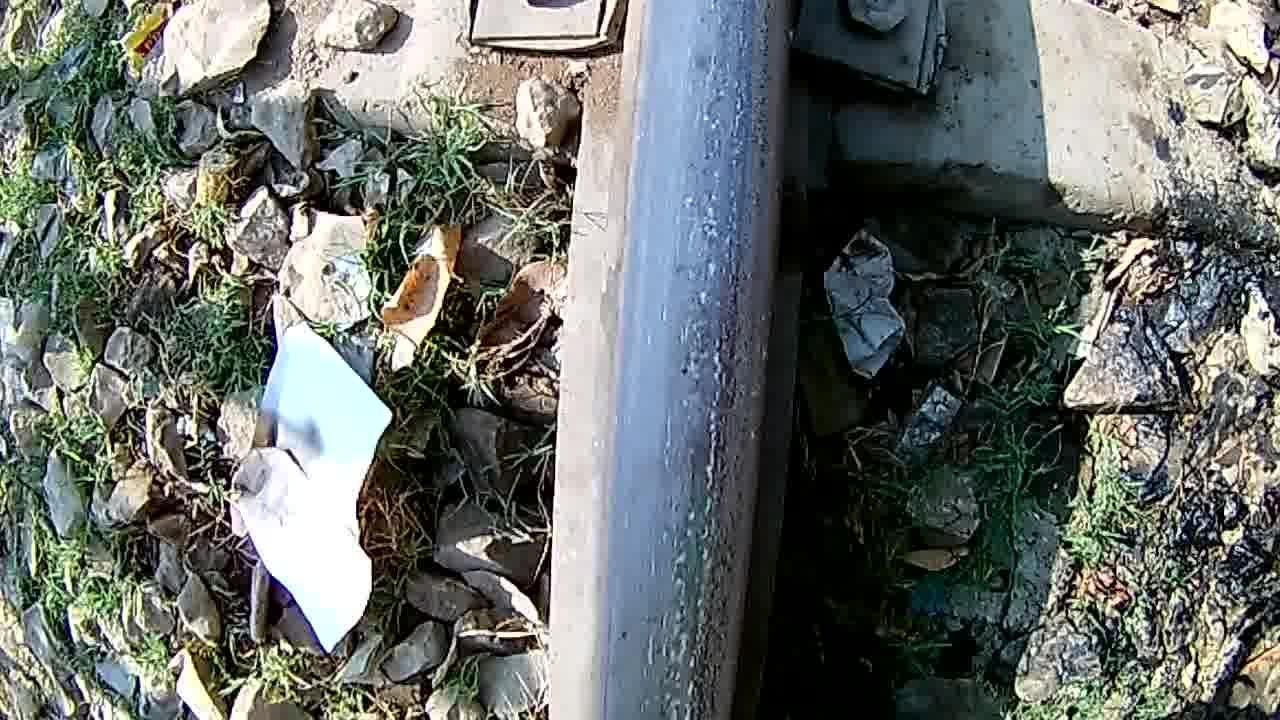crack: (648, 0, 764, 720)
